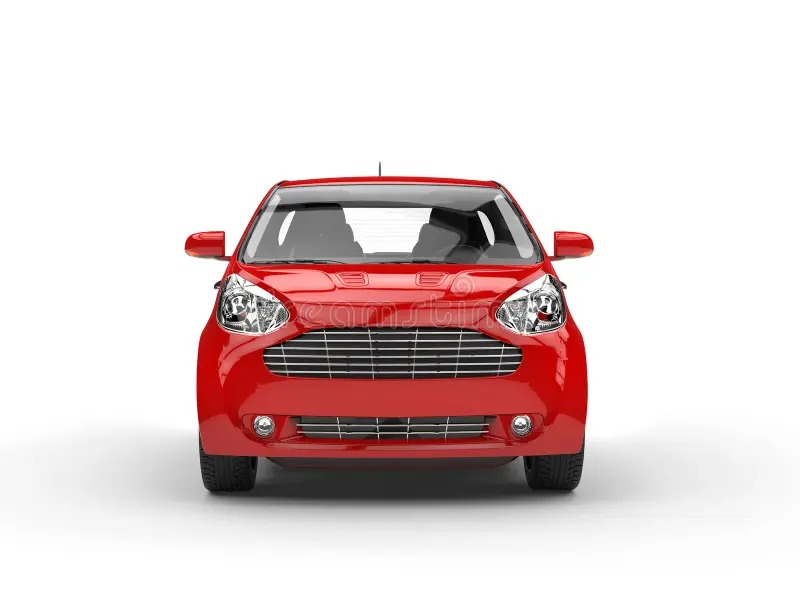car: (173, 176, 593, 491), (181, 178, 599, 488)
